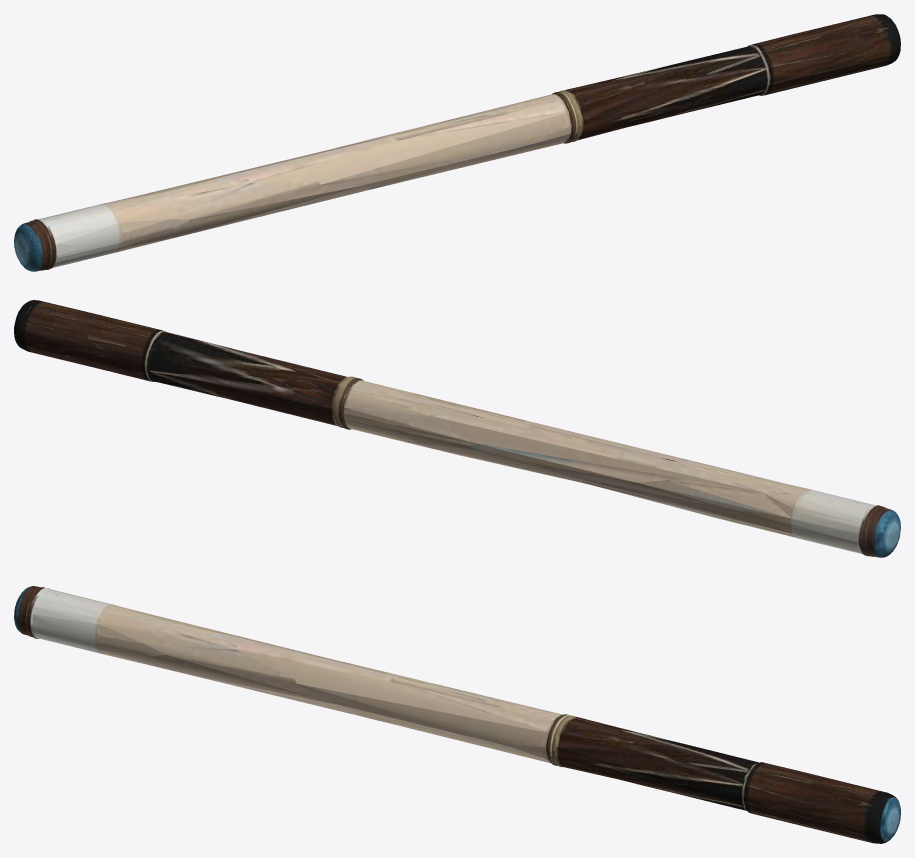
Rendered from sp_m_poolcue.glb.
3 renders of one model, top to bottom at view 1: azimuth 30°, elevation 25°; view 2: azimuth 150°, elevation 25°; view 3: azimuth 330°, elevation 25°, orthographic.
Visible parts, largest first — view 1: Mesh_0; view 2: Mesh_0; view 3: Mesh_0.
Boxes of the visible parts, box(x1,y1,x2,y2) form: Mesh_0: box(14, 14, 900, 271); Mesh_0: box(14, 300, 900, 557); Mesh_0: box(14, 586, 900, 843).
Bounding box in the file's own units: 1.9 × 0.0996 × 0.0998.
1 material, 1 textured.
